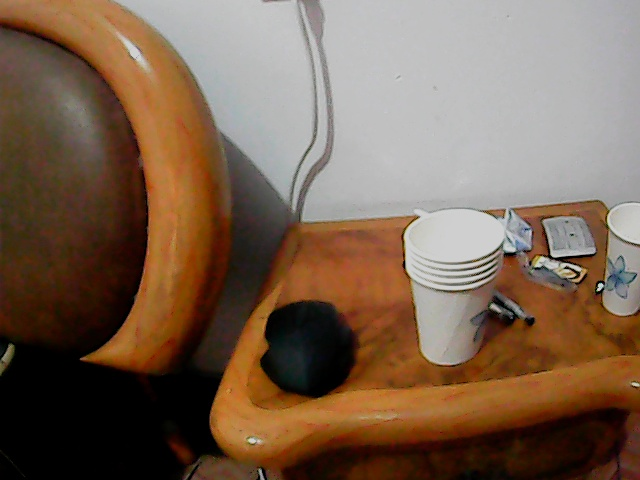cup: (403, 207, 505, 370)
mouse: (257, 296, 356, 396)
